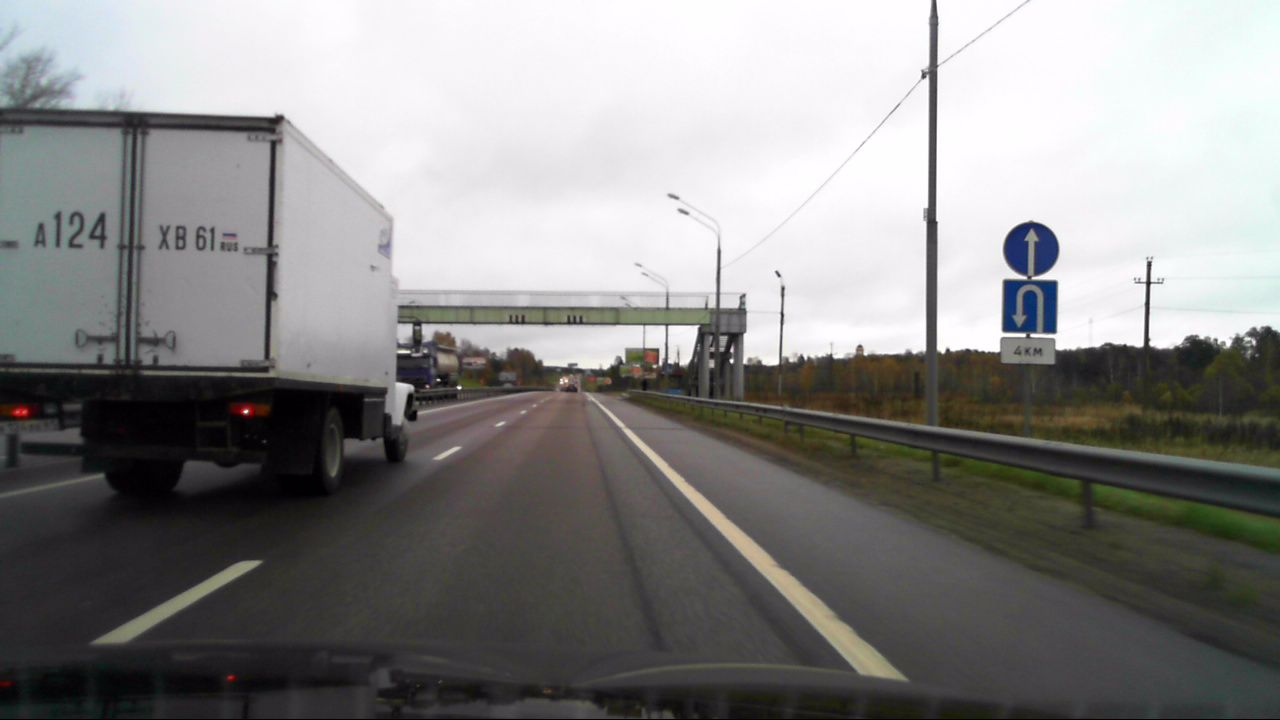U-turn: (1003, 280, 1057, 333)
